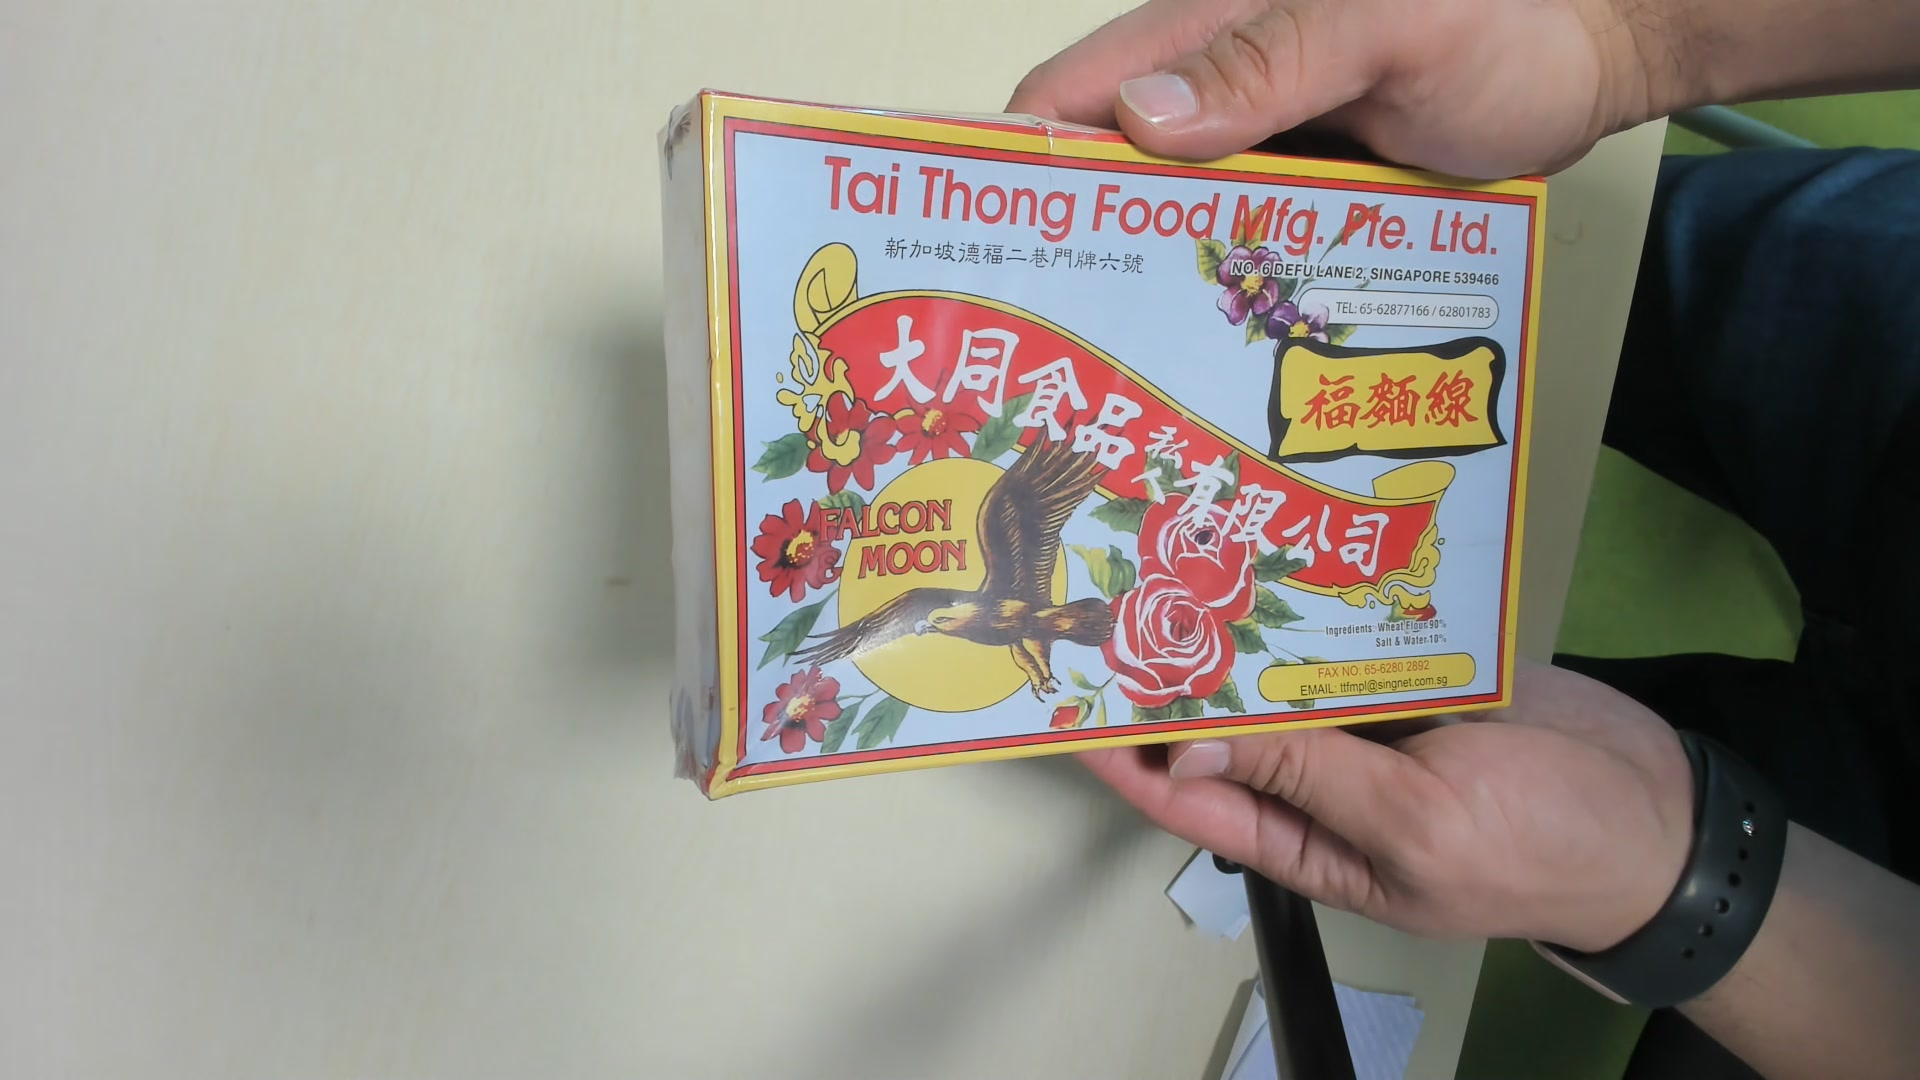BeeHoonVermicelli_0-99g_NonHalal_NonHealthy: (655, 88, 1549, 808)
